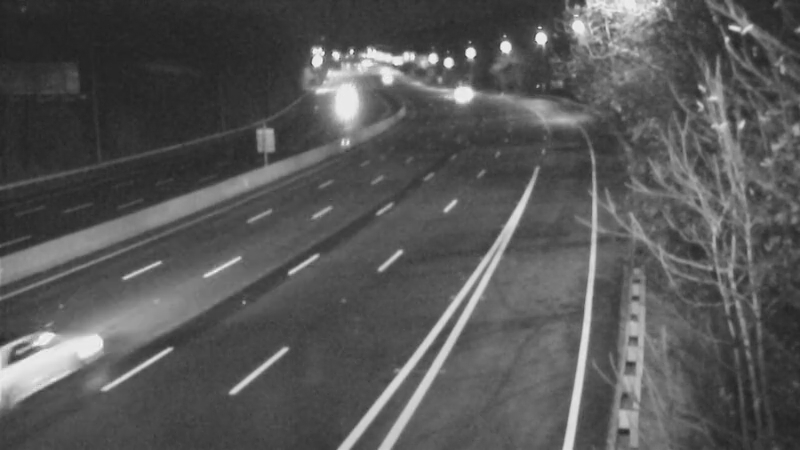vehicle: (1, 308, 98, 418), (359, 55, 409, 105), (439, 67, 489, 117), (319, 78, 369, 128)
